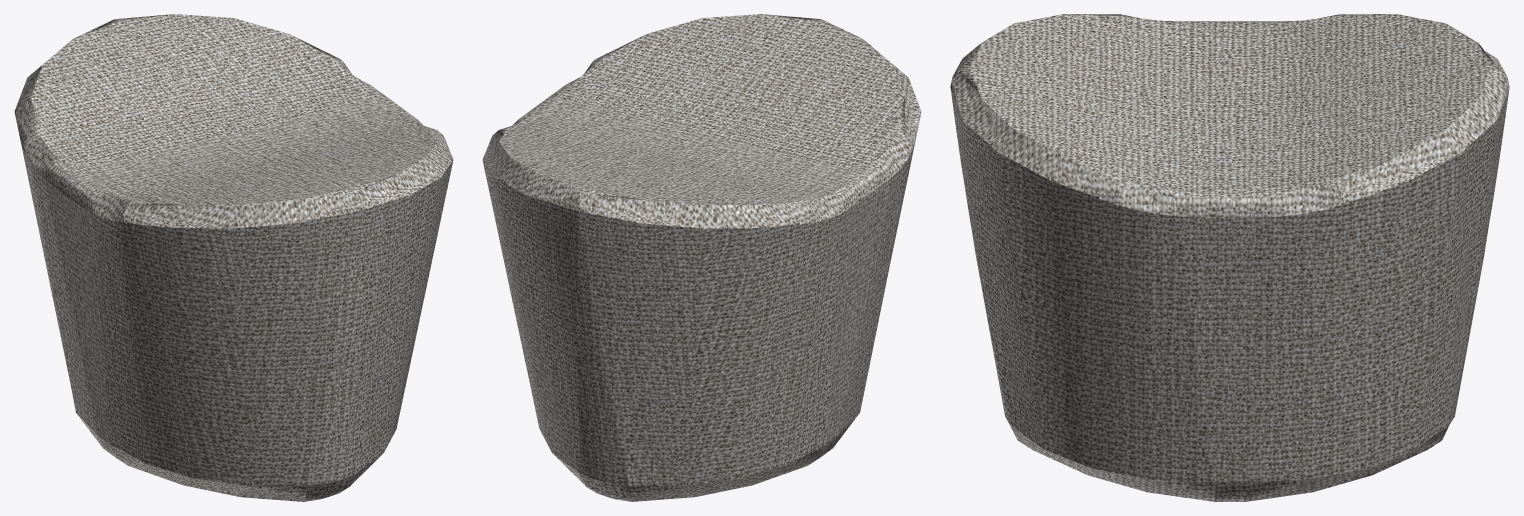
3 renders of one model, left to right at view 1: azimuth 30°, elevation 25°; view 2: azimuth 150°, elevation 25°; view 3: azimuth 270°, elevation 25°, orthographic. The views are drawn at different scales.
Parts seen in each view (by area): view 1: 2; view 2: 2; view 3: 2.
Boxes of the visible parts, bbox=[...] form: 2: bbox=[14, 14, 453, 501]; 2: bbox=[482, 14, 921, 501]; 2: bbox=[950, 14, 1509, 501].
Bounding box in the file's own units: 0.4981 × 0.4876 × 0.6436.
Materials: 2 (1 with a texture image).
